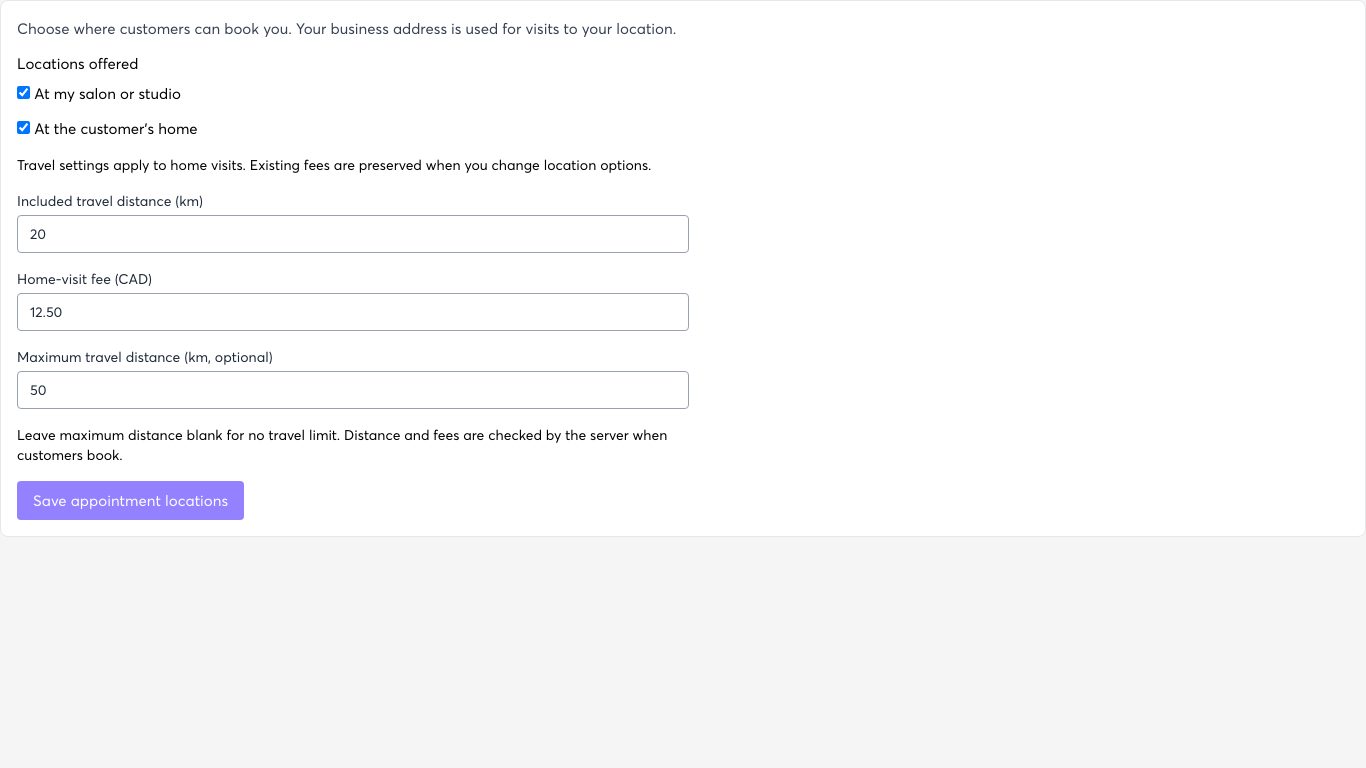
Test: rejects no locations before sending and keeps edits after failure
This screenshot has width=1366, height=768.
expect the number field labelled "Home-visit fee (CAD)" is shown: met, box top-left (17, 293), bottom-right (689, 331)
Click the checkbox labelled "At my salon or studio": (24, 92) top-left (17, 86), bottom-right (30, 99)
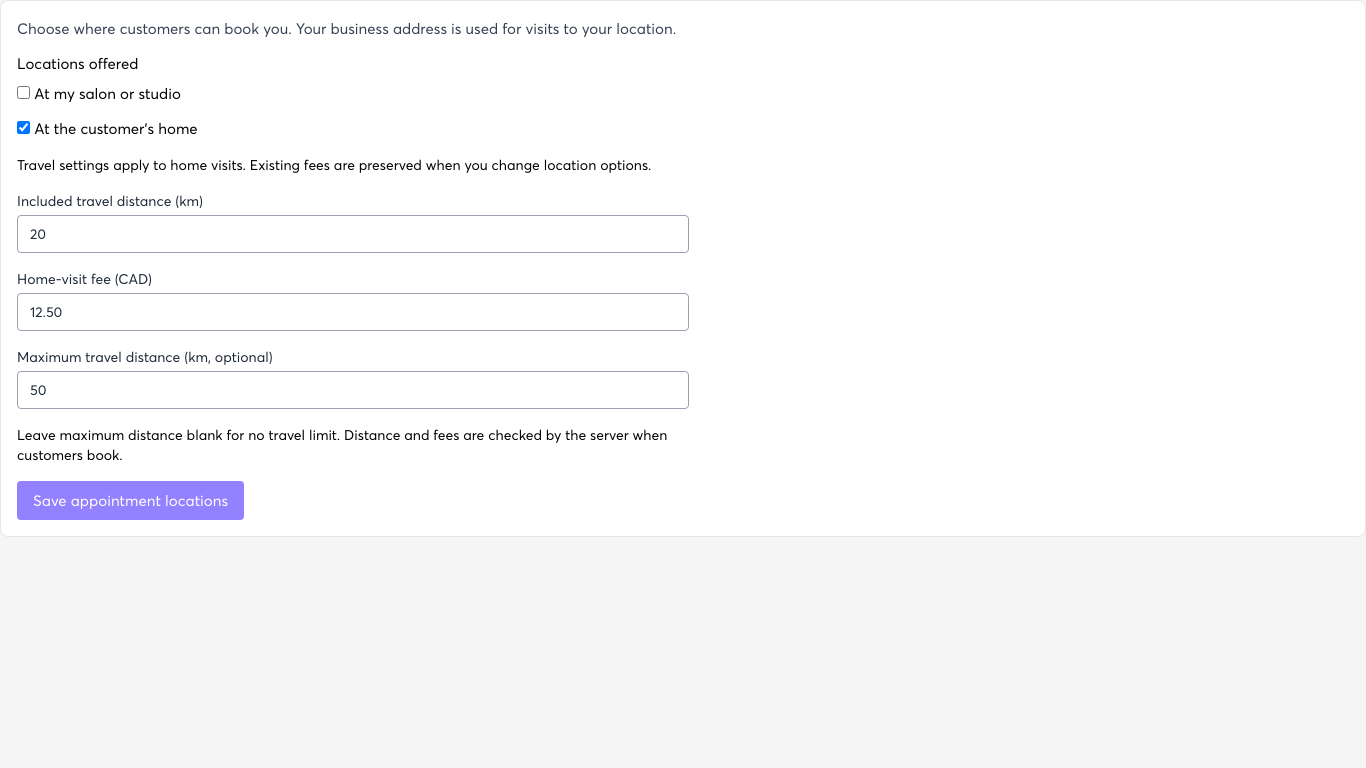
Click the checkbox labelled "At the customer's home": (24, 127) top-left (17, 120), bottom-right (30, 134)
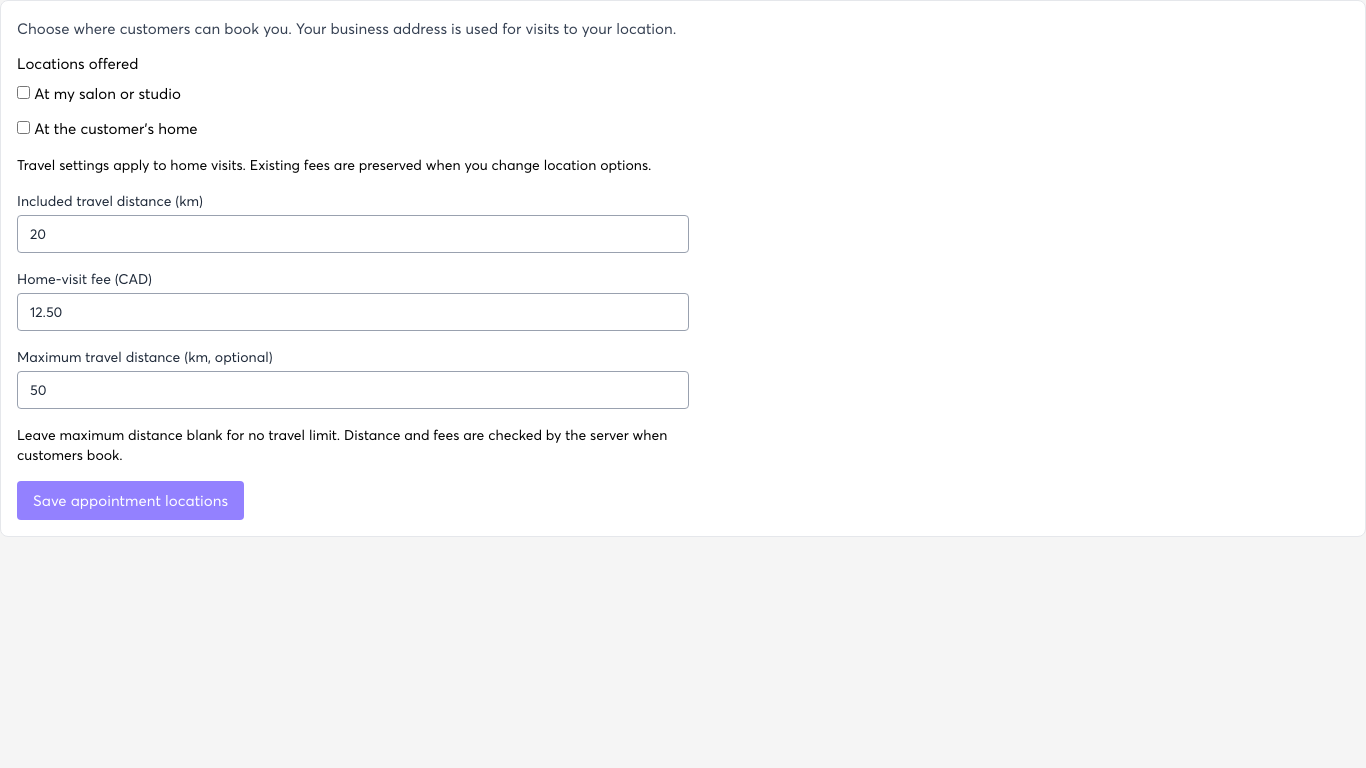
Click the button "Save appointment locations": (130, 500) top-left (17, 481), bottom-right (244, 520)
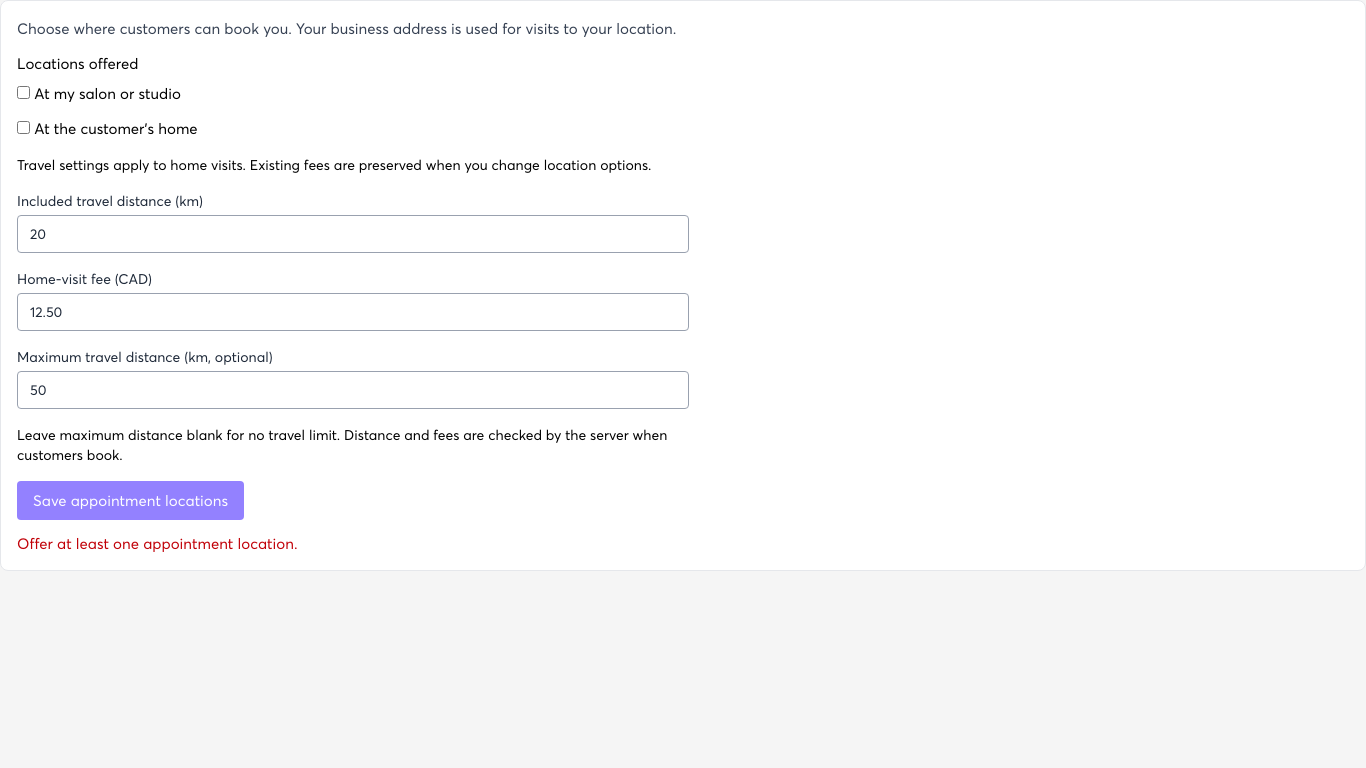
expect the message shows "Offer at least one": met, box top-left (17, 534), bottom-right (298, 552)
Click the checkbox labelled "At the customer's home": (24, 127) top-left (17, 120), bottom-right (30, 134)
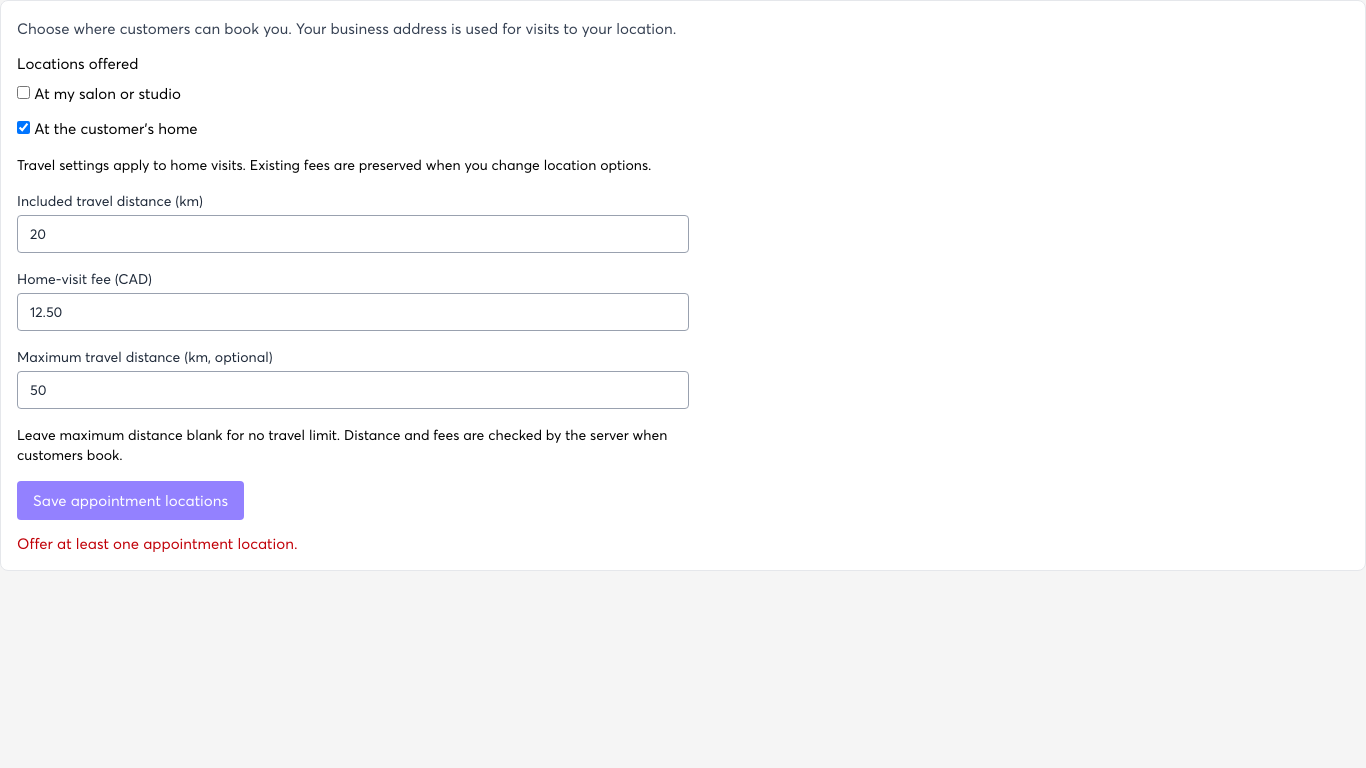
Replace the text in the number field labelled "Home-visit fee (CAD)" with "22": (353, 312) top-left (17, 293), bottom-right (689, 331)
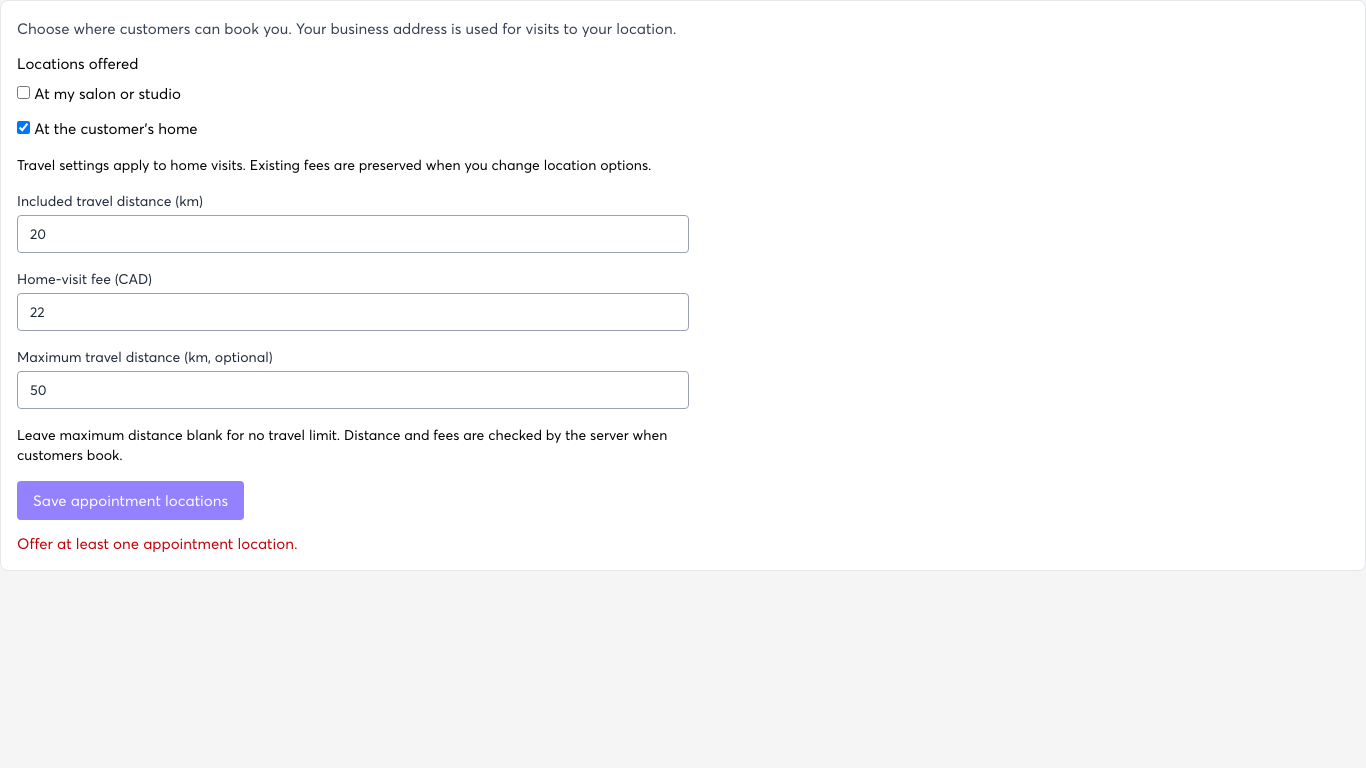
Click the button "Save appointment locations": (130, 500) top-left (17, 481), bottom-right (244, 520)
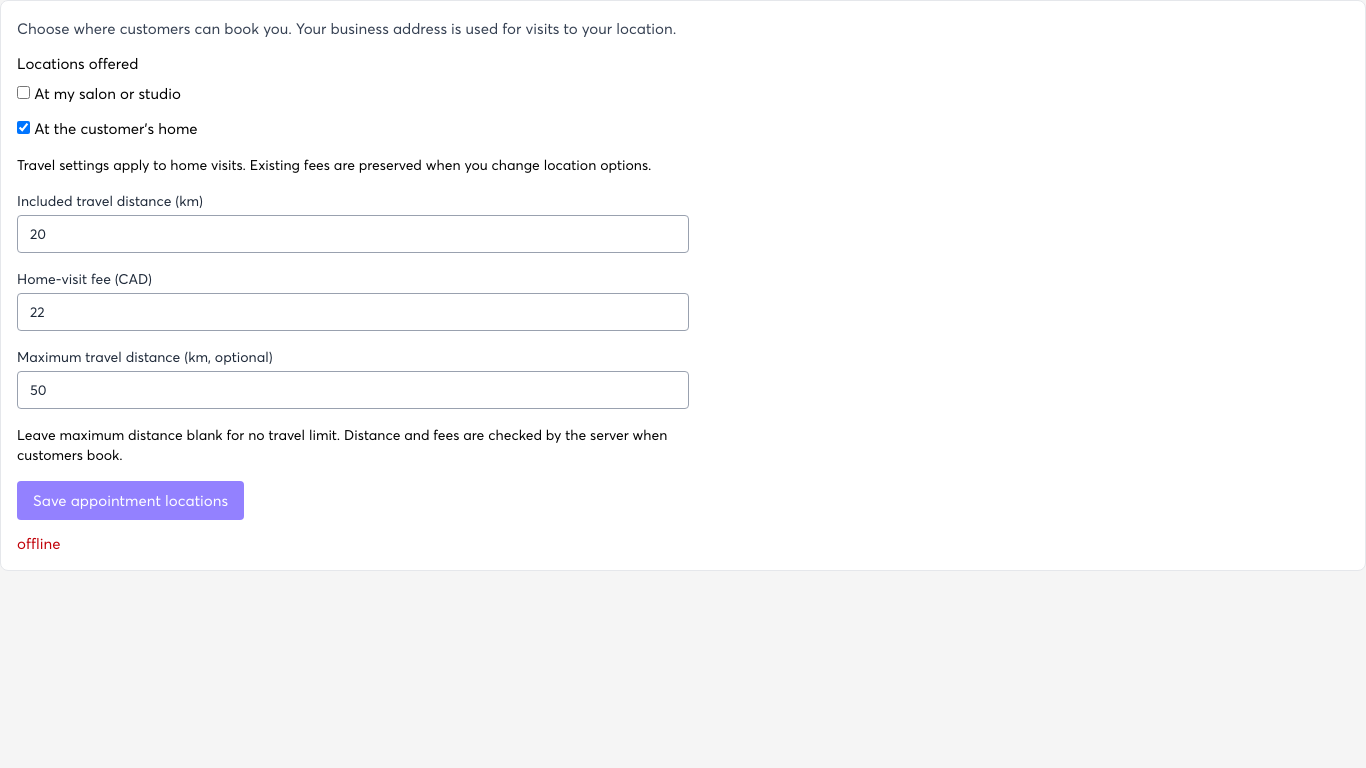
expect the message reads "offline": met, box top-left (17, 534), bottom-right (60, 552)
